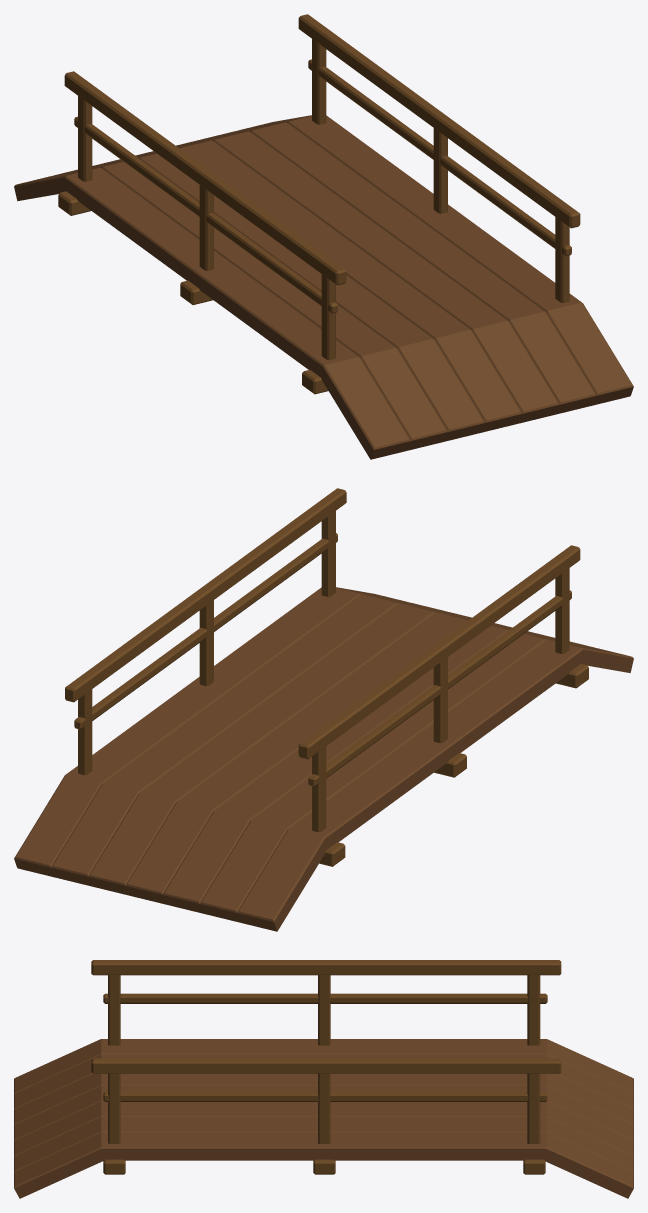
Rendered from bridge_a02.gltf.
The picture shows the model from 3 angles, top to bottom: view 1: azimuth 30°, elevation 25°; view 2: azimuth 150°, elevation 25°; view 3: azimuth 270°, elevation 25°; orthographic projection. The views are drawn at different scales.
Visible parts, largest first — view 1: bridge_a02_001; view 2: bridge_a02_001; view 3: bridge_a02_001.
Boxes of the visible parts, box(x1,y1,x2,y2) form: bridge_a02_001: box(14, 14, 633, 459); bridge_a02_001: box(14, 488, 633, 931); bridge_a02_001: box(14, 960, 633, 1198).
Size of the model in its own units: 3.17 by 1.71 by 7.19.
Materials: 1 (1 with a texture image).
